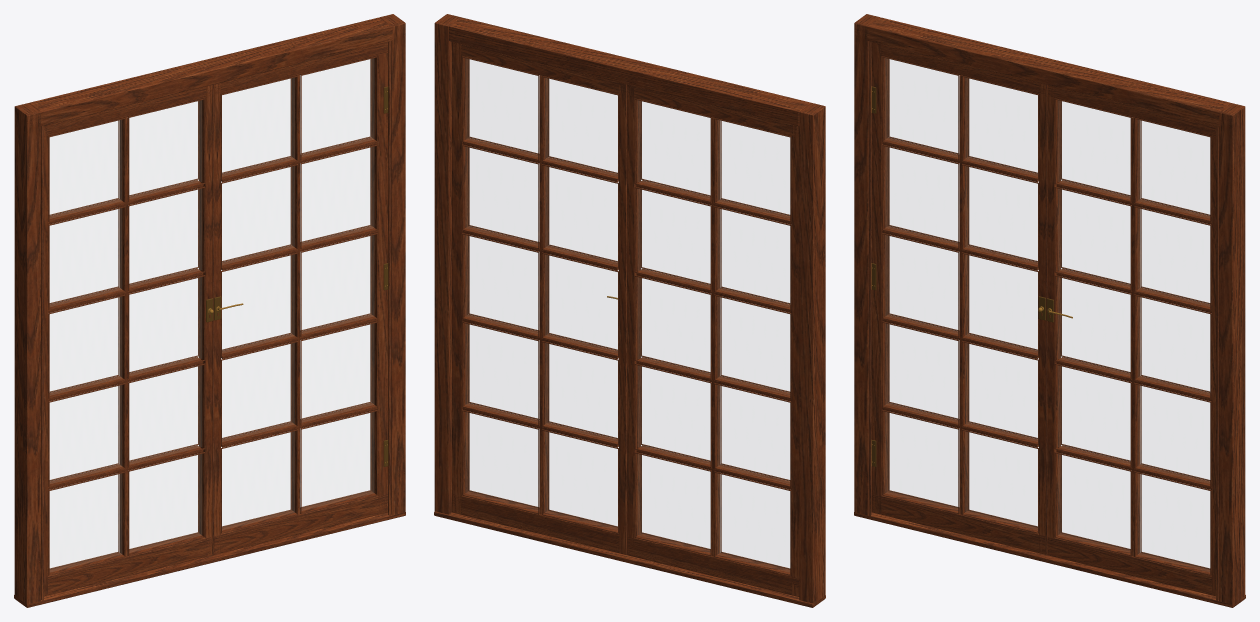
Rendered from asset.glb.
3 views of the same model, side by side, from view 1: azimuth 30°, elevation 25°; view 2: azimuth 150°, elevation 25°; view 3: azimuth 330°, elevation 25° (orthographic).
Visible parts, largest first — view 1: MaterialBatch_French_door_clear_household_glazing, MaterialBatch_French_door_reddish_stained_oak, MaterialBatch_French_door_oak_edge_grain, MaterialBatch_French_door_dark_oak_reveal, MaterialBatch_French_door_aged_dark_brass_hardware; view 2: MaterialBatch_French_door_clear_household_glazing, MaterialBatch_French_door_dark_oak_reveal, MaterialBatch_French_door_oak_edge_grain, MaterialBatch_French_door_reddish_stained_oak; view 3: MaterialBatch_French_door_clear_household_glazing, MaterialBatch_French_door_reddish_stained_oak, MaterialBatch_French_door_oak_edge_grain, MaterialBatch_French_door_dark_oak_reveal, MaterialBatch_French_door_aged_dark_brass_hardware.
Part boxes in pixels (box(x1,y1,x2,y2)): MaterialBatch_French_door_clear_household_glazing: box(50, 59, 373, 571); MaterialBatch_French_door_reddish_stained_oak: box(25, 22, 405, 604); MaterialBatch_French_door_oak_edge_grain: box(14, 40, 405, 607); MaterialBatch_French_door_dark_oak_reveal: box(14, 14, 404, 606); MaterialBatch_French_door_aged_dark_brass_hardware: box(206, 86, 387, 466); MaterialBatch_French_door_clear_household_glazing: box(466, 59, 789, 571); MaterialBatch_French_door_dark_oak_reveal: box(434, 14, 825, 607); MaterialBatch_French_door_oak_edge_grain: box(434, 75, 825, 607); MaterialBatch_French_door_reddish_stained_oak: box(447, 14, 825, 598); MaterialBatch_French_door_clear_household_glazing: box(886, 59, 1209, 571); MaterialBatch_French_door_reddish_stained_oak: box(854, 22, 1234, 606); MaterialBatch_French_door_oak_edge_grain: box(854, 40, 1245, 607); MaterialBatch_French_door_dark_oak_reveal: box(855, 14, 1245, 606); MaterialBatch_French_door_aged_dark_brass_hardware: box(872, 86, 1053, 466).
Size of the model in its own units: 66 by 82 by 4.
6 materials, 6 textured.
